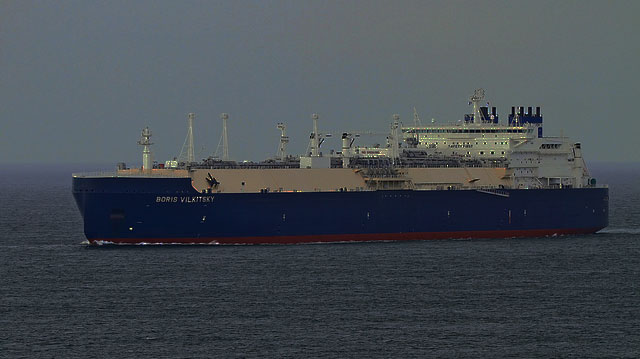LNG_ship: (70, 90, 611, 238)
